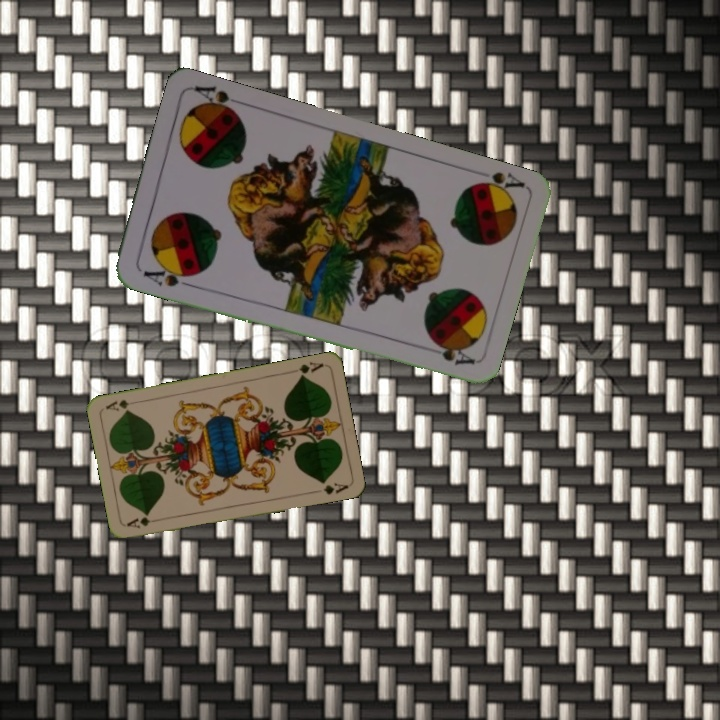GA: (295, 358, 326, 380), (123, 513, 153, 531)
SA: (465, 167, 527, 200), (139, 260, 197, 290)
